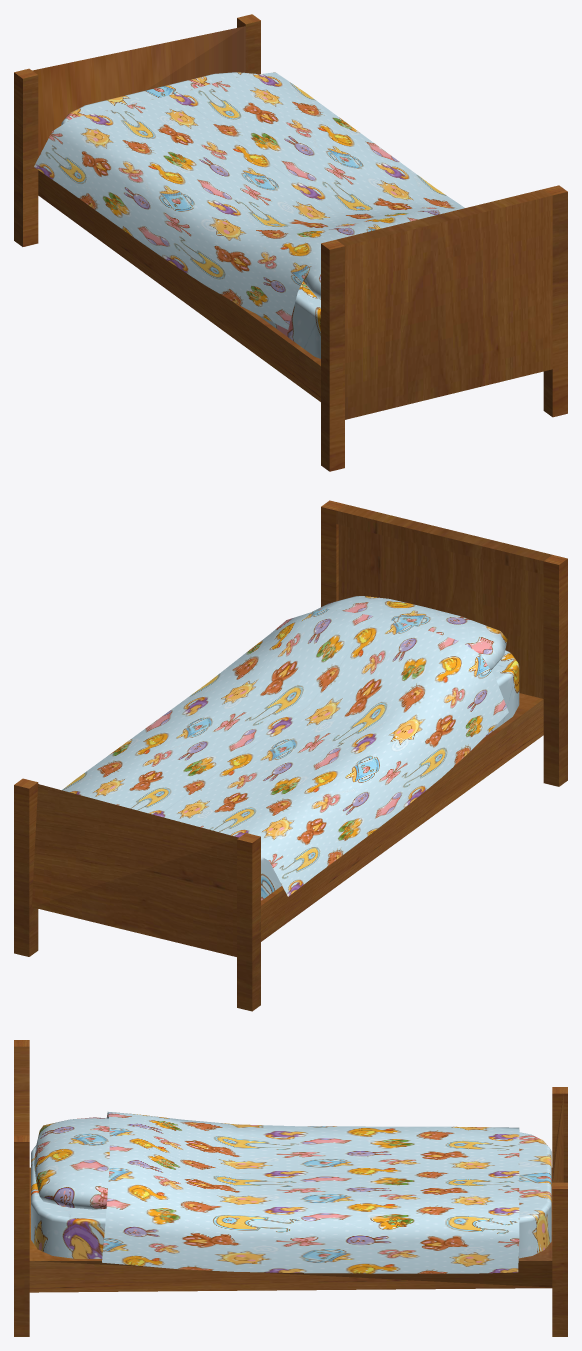
File: bed.fbx
The picture shows the model from 3 angles, top to bottom: view 1: azimuth 30°, elevation 25°; view 2: azimuth 150°, elevation 25°; view 3: azimuth 270°, elevation 25°; orthographic projection. The views are drawn at different scales.
Parts seen in each view (by area): view 1: polySurface65; view 2: polySurface65; view 3: polySurface65.
Part boxes in pixels (x1,y1,x2,y2): polySurface65: (14,14,567,471); polySurface65: (14,500,567,1011); polySurface65: (14,1040,567,1336).
Bounding box in the file's own units: 8.93 × 7.27 × 18.74.
